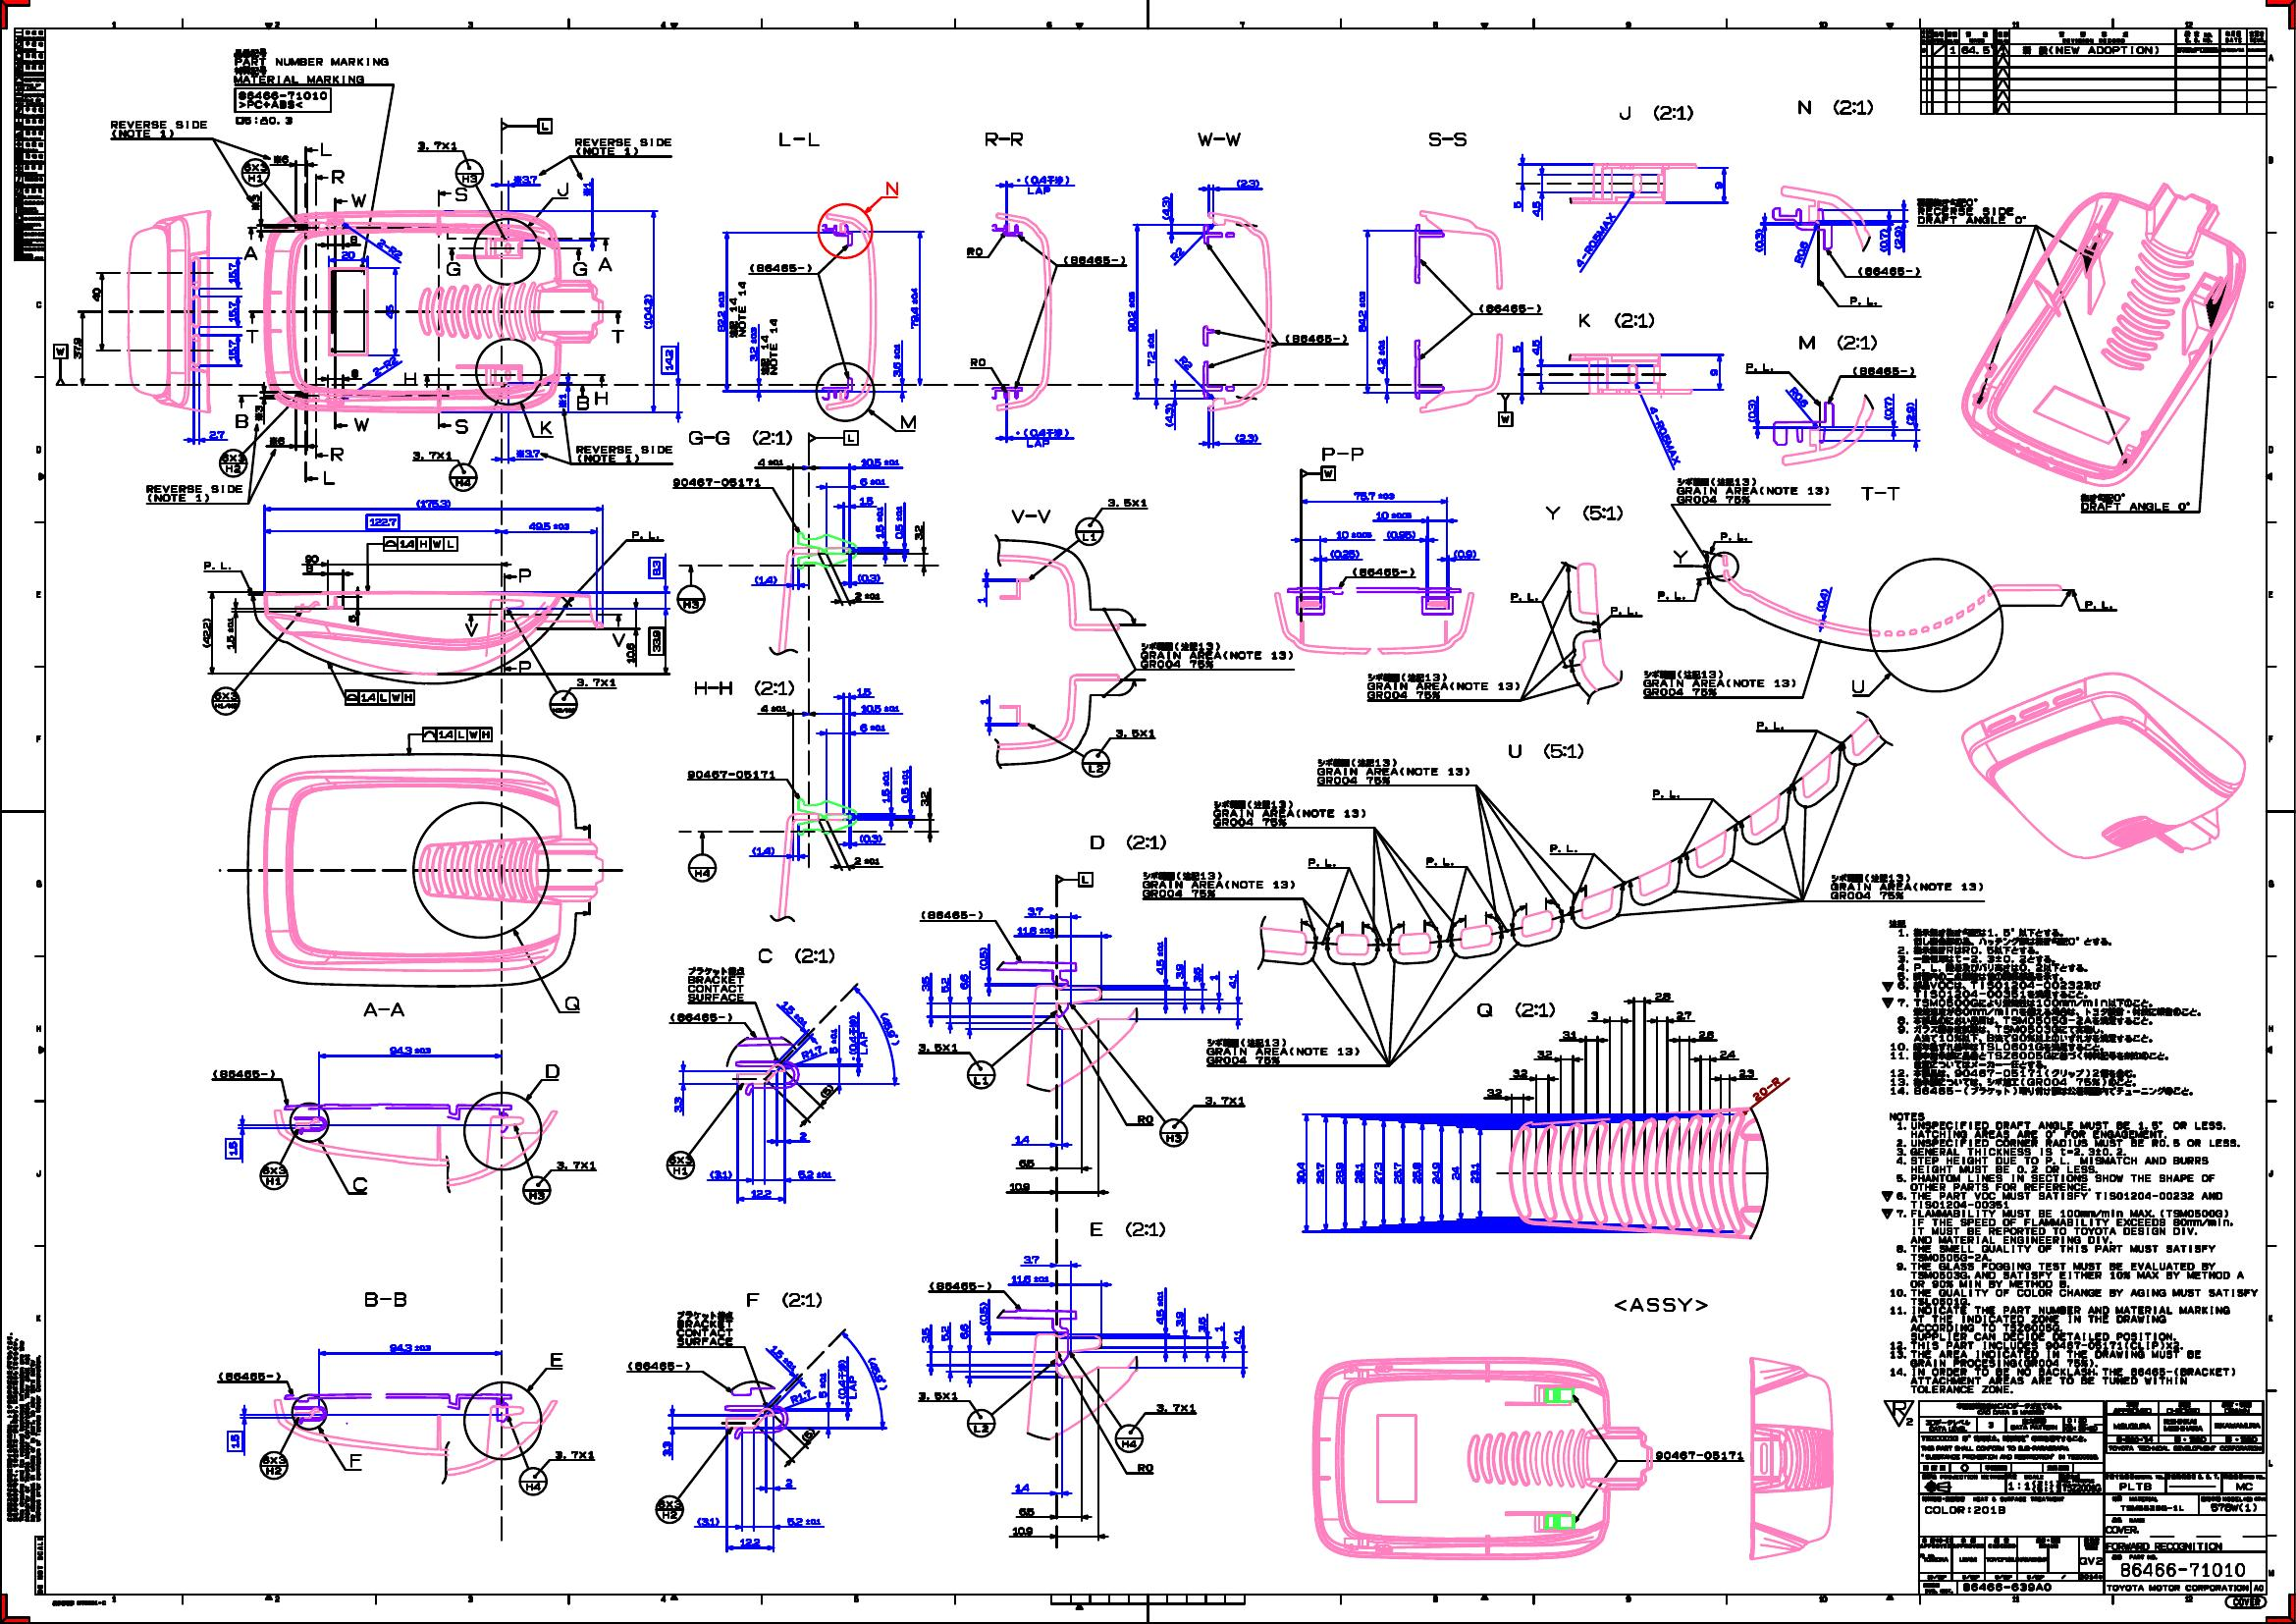anntotation_text: (1881, 1111, 2261, 1392), (1878, 919, 2206, 1098), (5, 1332, 44, 1524), (1365, 671, 1521, 701), (1210, 798, 1367, 828), (1140, 870, 1296, 900), (1827, 872, 1985, 900), (1138, 640, 1293, 668), (1318, 758, 1472, 786), (1205, 1037, 1360, 1065), (1643, 670, 1797, 698), (1676, 476, 1830, 504), (1915, 197, 2027, 225), (232, 47, 390, 67), (2076, 490, 2192, 513), (1614, 1292, 1708, 1318), (232, 67, 369, 84), (235, 88, 330, 112), (692, 677, 792, 700), (675, 1309, 733, 1348), (689, 967, 747, 1004), (1794, 330, 1880, 355), (571, 137, 671, 158), (687, 429, 796, 448), (107, 118, 211, 137), (1505, 740, 1585, 765), (144, 483, 244, 503), (1087, 1218, 1170, 1241), (755, 946, 836, 968), (743, 1290, 824, 1311), (1087, 831, 1168, 852), (1542, 503, 1623, 524), (574, 445, 671, 462), (1794, 97, 1874, 116), (1476, 1000, 1555, 1019), (1576, 311, 1655, 330), (1010, 174, 1072, 199), (1616, 102, 1693, 121), (1014, 425, 1073, 450), (422, 724, 494, 742), (1653, 1446, 1743, 1461), (727, 278, 748, 337), (344, 687, 415, 705), (761, 316, 780, 376), (806, 425, 861, 446), (683, 766, 775, 779), (964, 1058, 998, 1091), (1156, 1116, 1191, 1148), (1881, 1397, 1917, 1429), (518, 1176, 555, 1206), (845, 1014, 868, 1062), (383, 536, 457, 550), (1282, 330, 1347, 346), (1114, 1422, 1145, 1454), (360, 1290, 408, 1311), (256, 1160, 288, 1192), (964, 1408, 998, 1438), (515, 1466, 548, 1496), (1476, 301, 1546, 315), (671, 478, 764, 489), (235, 112, 297, 128), (836, 1359, 857, 1404), (1556, 234, 1634, 246), (676, 582, 706, 613), (256, 1450, 288, 1480), (1073, 515, 1103, 547), (453, 158, 485, 188), (546, 689, 578, 719), (211, 1067, 278, 1081), (499, 116, 552, 134), (921, 907, 986, 921), (1850, 364, 1915, 378), (653, 1494, 683, 1524), (687, 852, 717, 882), (218, 448, 248, 478), (239, 156, 269, 186), (218, 1369, 281, 1383), (664, 1149, 696, 1178), (778, 128, 820, 149), (448, 462, 480, 490), (1193, 128, 1242, 146), (1630, 429, 1700, 441), (360, 998, 404, 1018), (211, 685, 239, 715), (1319, 445, 1365, 462), (51, 341, 69, 387), (928, 1280, 993, 1292), (1082, 749, 1108, 779), (627, 1359, 690, 1371), (669, 1011, 733, 1023), (1351, 564, 1414, 576), (1859, 485, 1903, 503), (1008, 506, 1051, 524), (1426, 130, 1469, 148), (984, 130, 1026, 148), (33, 1534, 46, 1594), (1054, 870, 1094, 888), (1855, 265, 1922, 276), (2222, 1596, 2271, 1610), (1061, 255, 1126, 265), (748, 262, 812, 272), (49, 1598, 105, 1608), (1300, 466, 1337, 482), (202, 557, 234, 573), (1743, 360, 1778, 374), (1498, 392, 1513, 425), (629, 527, 662, 541), (1748, 1083, 1785, 1095), (1607, 605, 1643, 617), (1546, 842, 1581, 854), (350, 1174, 371, 1193), (1651, 787, 1683, 800), (1848, 294, 1880, 306), (562, 995, 581, 1014), (541, 1062, 562, 1079), (2082, 599, 2117, 610), (1718, 529, 1748, 541), (1423, 856, 1456, 866), (1305, 856, 1339, 866), (1655, 589, 1688, 599), (548, 1350, 566, 1369), (596, 255, 613, 274), (536, 420, 555, 438), (1755, 719, 1787, 729), (1509, 591, 1539, 601), (346, 1452, 364, 1469), (1672, 548, 1690, 566), (353, 415, 371, 432), (515, 657, 532, 675), (1850, 677, 1866, 696), (884, 179, 899, 199), (241, 244, 260, 260), (330, 165, 344, 186), (516, 564, 531, 585), (899, 415, 917, 431), (592, 388, 608, 406), (232, 413, 249, 429), (350, 192, 367, 207), (610, 631, 627, 647), (320, 139, 334, 158), (555, 181, 571, 197), (444, 260, 460, 276), (453, 418, 469, 434), (321, 469, 337, 485), (244, 327, 260, 343), (573, 260, 587, 278), (574, 394, 588, 411), (402, 371, 420, 385), (611, 329, 625, 344), (329, 448, 344, 462), (464, 622, 478, 638), (455, 186, 467, 204)
dimension_text: (1354, 489, 1398, 503), (1105, 494, 1149, 508), (859, 700, 903, 714), (388, 1042, 432, 1056), (1374, 508, 1416, 522), (574, 675, 615, 689), (367, 513, 399, 531), (871, 1353, 885, 1392), (794, 1167, 833, 1181), (1015, 923, 1054, 937), (1112, 726, 1156, 738), (553, 1446, 597, 1459), (715, 288, 727, 332), (762, 1350, 805, 1362), (915, 1388, 957, 1401), (415, 139, 457, 151), (870, 1025, 910, 1037), (917, 1040, 957, 1053), (413, 448, 453, 460), (527, 520, 573, 531), (386, 1341, 432, 1352), (1126, 288, 1137, 334), (892, 503, 905, 541), (415, 496, 453, 508), (783, 1513, 822, 1526), (775, 1007, 813, 1019), (1356, 288, 1367, 332), (1012, 1271, 1049, 1283), (1154, 939, 1166, 975), (747, 325, 759, 362), (857, 455, 899, 466), (648, 626, 664, 654), (908, 286, 919, 329), (662, 346, 678, 374), (223, 1135, 242, 1158), (873, 504, 885, 540), (899, 768, 912, 803), (889, 341, 901, 376), (1333, 529, 1374, 540), (1816, 587, 1830, 617), (1465, 1160, 1481, 1186), (856, 473, 889, 485), (878, 768, 891, 801), (1154, 1288, 1165, 1327), (1794, 237, 1808, 265), (850, 589, 882, 601), (1293, 1162, 1309, 1186), (1407, 1162, 1423, 1186), (1426, 1160, 1442, 1185), (369, 359, 401, 371), (1451, 547, 1477, 561), (555, 1160, 597, 1169), (1154, 1403, 1196, 1411), (1203, 1095, 1245, 1104), (1375, 337, 1386, 373), (1145, 330, 1156, 366), (643, 294, 653, 329), (977, 1301, 989, 1330), (200, 615, 211, 649), (759, 701, 787, 714), (1310, 1162, 1325, 1186), (1330, 1162, 1344, 1186), (1351, 1162, 1365, 1186), (1370, 1162, 1384, 1186), (1390, 1162, 1404, 1186), (1446, 1162, 1460, 1186), (1231, 431, 1260, 443), (227, 1431, 244, 1450), (1021, 1251, 1042, 1267), (374, 244, 406, 255), (757, 455, 783, 468), (736, 1536, 762, 1548), (798, 1048, 824, 1060), (977, 946, 989, 972), (1746, 397, 1758, 424), (1558, 1026, 1581, 1040), (1330, 547, 1360, 557), (857, 721, 887, 731), (785, 1390, 815, 1401), (624, 640, 636, 664), (750, 844, 775, 856), (1007, 1179, 1031, 1192), (1235, 176, 1260, 188), (648, 557, 662, 578), (1718, 1046, 1739, 1060), (227, 615, 235, 649), (1384, 529, 1418, 538), (696, 1515, 718, 1527), (708, 1167, 731, 1179), (1015, 1504, 1038, 1517), (854, 856, 880, 866), (1892, 223, 1903, 250), (1878, 227, 1888, 253), (1755, 227, 1765, 253), (1785, 392, 1811, 402), (1159, 195, 1170, 221), (1163, 401, 1173, 427), (513, 446, 539, 457), (72, 336, 83, 362), (917, 789, 931, 808), (1674, 1007, 1693, 1021), (817, 1371, 826, 1401), (857, 833, 882, 844), (748, 1188, 773, 1199), (1135, 1459, 1156, 1471), (959, 1320, 970, 1345), (1534, 1048, 1555, 1060), (1734, 1067, 1758, 1077), (829, 1028, 838, 1056), (917, 1325, 931, 1343), (1697, 1026, 1715, 1040), (1883, 394, 1892, 422), (857, 571, 880, 582), (1231, 1327, 1244, 1346), (1026, 905, 1045, 917), (1484, 1086, 1504, 1098), (964, 244, 984, 257), (856, 684, 871, 698), (1010, 1524, 1031, 1534), (1173, 1308, 1184, 1329), (1530, 199, 1541, 220), (1175, 357, 1196, 367), (754, 575, 778, 584), (798, 1429, 815, 1441), (959, 972, 971, 990), (1226, 972, 1238, 990), (1137, 1114, 1154, 1127), (1906, 399, 1915, 424), (272, 153, 290, 165), (383, 302, 395, 320), (227, 299, 235, 323), (90, 286, 102, 304), (940, 1323, 950, 1343), (1511, 1067, 1530, 1077), (1651, 990, 1671, 1000), (1168, 250, 1188, 260), (968, 355, 987, 366), (249, 192, 260, 211), (1196, 1311, 1205, 1334), (1175, 960, 1184, 982), (513, 174, 536, 183), (227, 337, 235, 360), (973, 594, 989, 606), (857, 496, 875, 506), (304, 554, 321, 564), (661, 1439, 671, 1457), (1014, 1482, 1031, 1492), (1017, 1158, 1038, 1167), (919, 975, 929, 993), (940, 975, 949, 997), (1530, 337, 1541, 355), (269, 436, 286, 446), (227, 262, 235, 283), (1590, 1009, 1602, 1023), (913, 524, 922, 543), (817, 1086, 836, 1095), (581, 179, 590, 199), (339, 250, 358, 258), (207, 431, 227, 439), (557, 392, 567, 408), (673, 1095, 682, 1113), (1193, 965, 1202, 982), (1511, 199, 1523, 211), (348, 367, 360, 380), (1014, 1135, 1033, 1142), (798, 1130, 808, 1142), (1214, 1322, 1224, 1334), (1713, 178, 1723, 190), (348, 232, 357, 246), (978, 698, 989, 708), (783, 1476, 794, 1487), (255, 404, 262, 420), (1209, 974, 1221, 982), (346, 613, 357, 622), (1708, 366, 1718, 374), (1513, 344, 1521, 353), (306, 564, 314, 571)
object: (1260, 714, 1883, 960), (1957, 179, 2249, 490), (246, 752, 606, 988), (1309, 1355, 1655, 1564), (262, 207, 603, 415), (1960, 671, 2249, 859), (1509, 1107, 1767, 1241), (998, 540, 1137, 766), (1718, 552, 2066, 638), (262, 591, 608, 675), (271, 1388, 559, 1476), (271, 1100, 559, 1186), (1746, 1353, 1841, 1561), (123, 206, 216, 417), (1411, 207, 1505, 411), (996, 958, 1138, 1093), (998, 1308, 1138, 1443), (1272, 584, 1476, 657), (1205, 209, 1274, 411), (991, 211, 1054, 413), (820, 207, 878, 415), (775, 796, 857, 916), (775, 531, 856, 652), (1769, 185, 1873, 262), (1771, 392, 1876, 466), (1574, 561, 1621, 692), (1565, 160, 1699, 206), (1565, 350, 1693, 395), (740, 1035, 801, 1097), (724, 1385, 789, 1438)
title_block: (1918, 1399, 2266, 1596), (1920, 28, 2266, 114), (12, 28, 46, 260)
